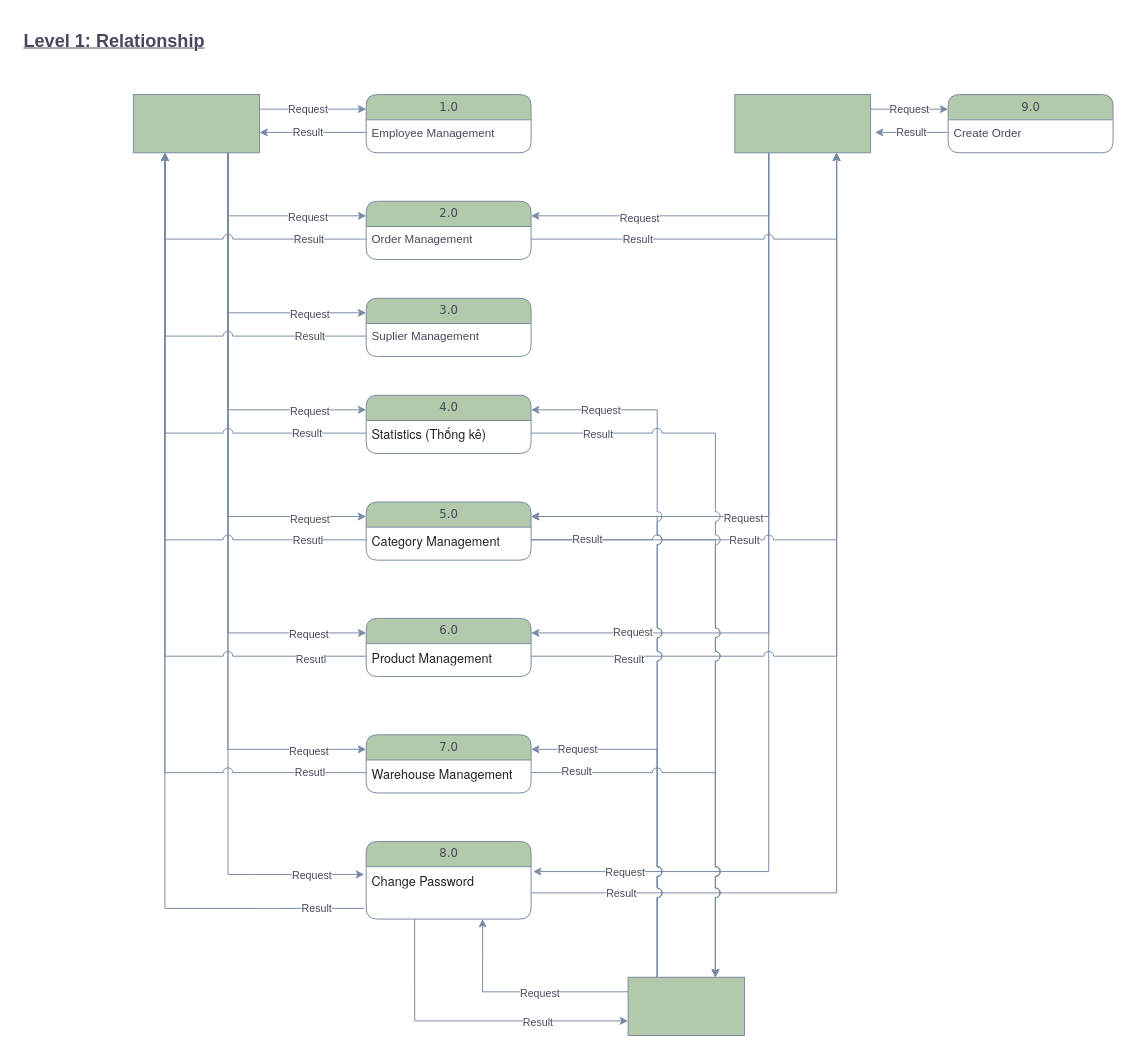
Some shapes in this 1130 by 1052 pixel diagram are drawn without their labels. Here are the shapes that lost their labels. From the top down, the centre of each, then its label:
At point 195,123: "Admin".
At point 802,123: "Cashier".
At point 685,1005: "Inventory".
